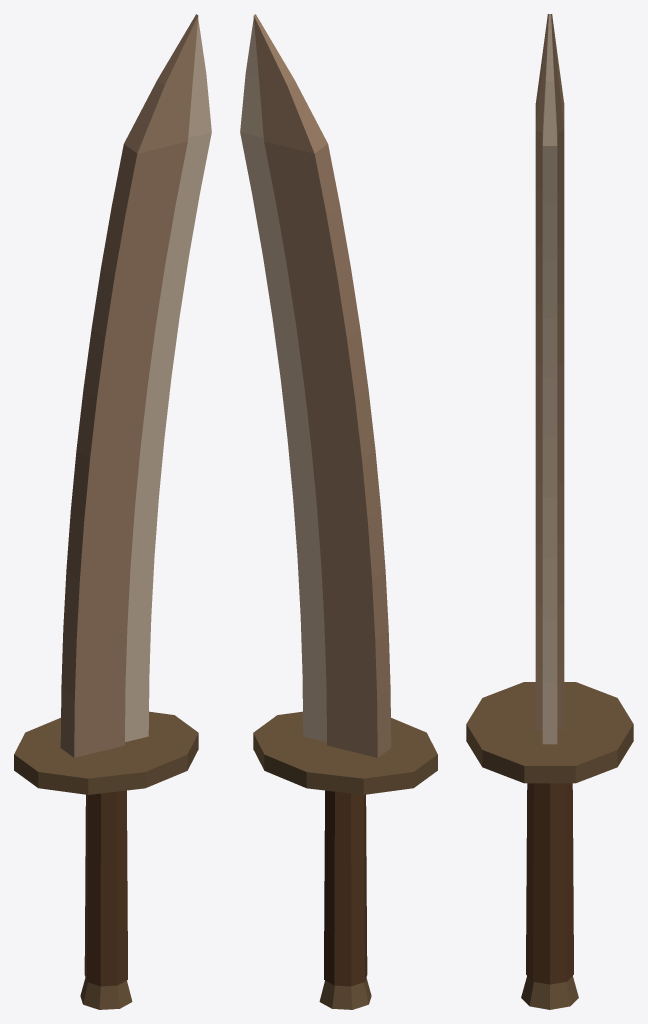
The model's file is Sword_RustyCutlass.fbx.
3 views of the same model, side by side, from view 1: azimuth 30°, elevation 25°; view 2: azimuth 150°, elevation 25°; view 3: azimuth 270°, elevation 25° (orthographic). The views are drawn at different scales.
Visible parts, largest first — view 1: Sword_RustyCutlass; view 2: Sword_RustyCutlass; view 3: Sword_RustyCutlass.
Part boxes in pixels (left/top/right/bottom): Sword_RustyCutlass: left=14, top=14, right=211, bottom=1009; Sword_RustyCutlass: left=240, top=14, right=437, bottom=1009; Sword_RustyCutlass: left=466, top=14, right=633, bottom=1009.
Bounding box in the file's own units: 0.7021 × 3.54 × 0.52.
1 material, 1 textured.
